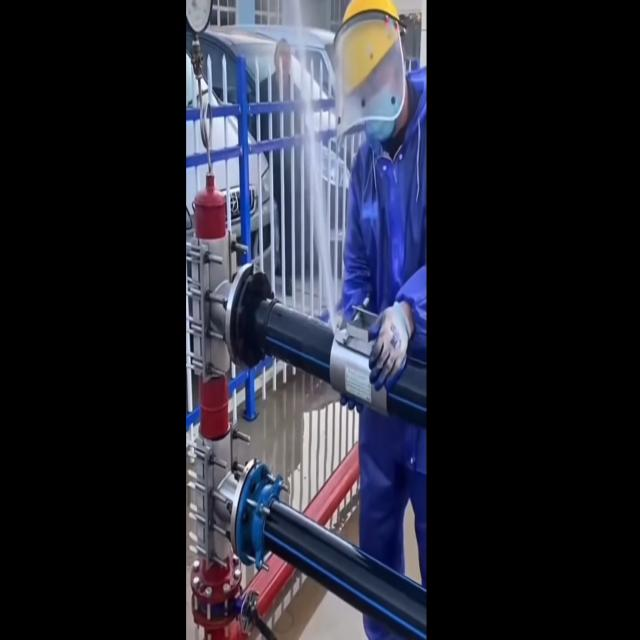leak: (300, 64, 336, 328)
